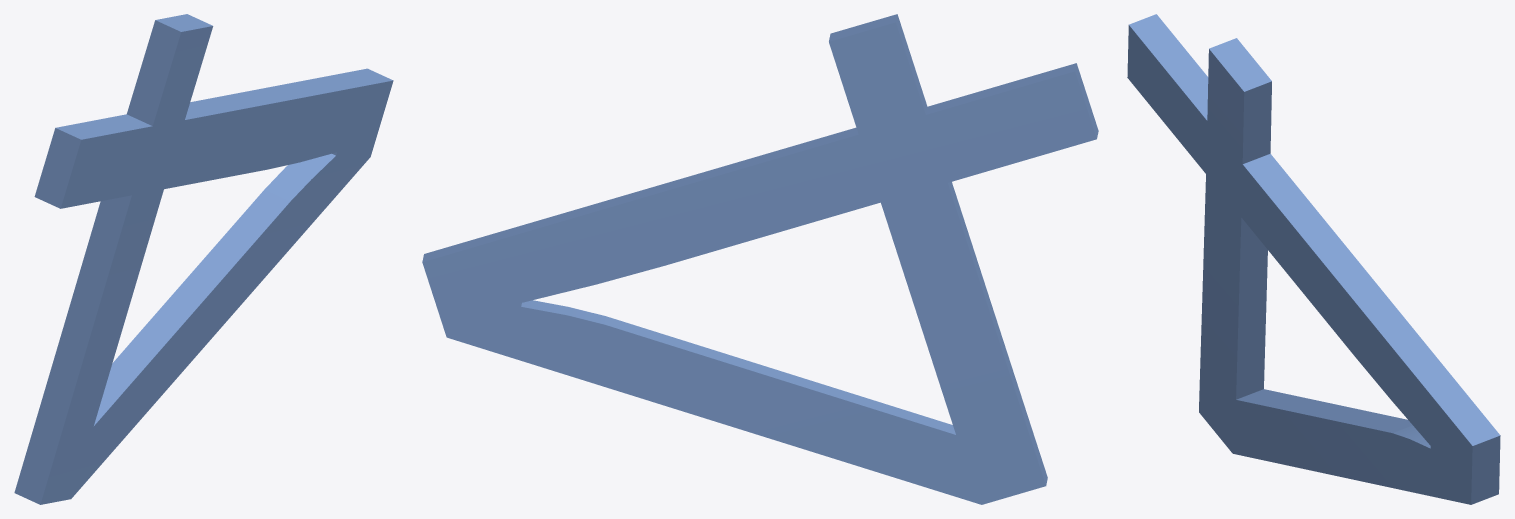
Rendered from New_Number_4.gltf.
The picture shows the model from 3 angles, left to right: view 1: azimuth 30°, elevation 25°; view 2: azimuth 150°, elevation 25°; view 3: azimuth 270°, elevation 25°; orthographic projection.
Visible parts, largest first — view 1: Part 553; view 2: Part 553; view 3: Part 553.
Part boxes in pixels (bbox=[...]): Part 553: bbox=[14, 14, 393, 504]; Part 553: bbox=[422, 14, 1098, 504]; Part 553: bbox=[1127, 14, 1500, 504].
Bounding box in the file's own units: 0.00481 × 0.00406 × 0.00299.
